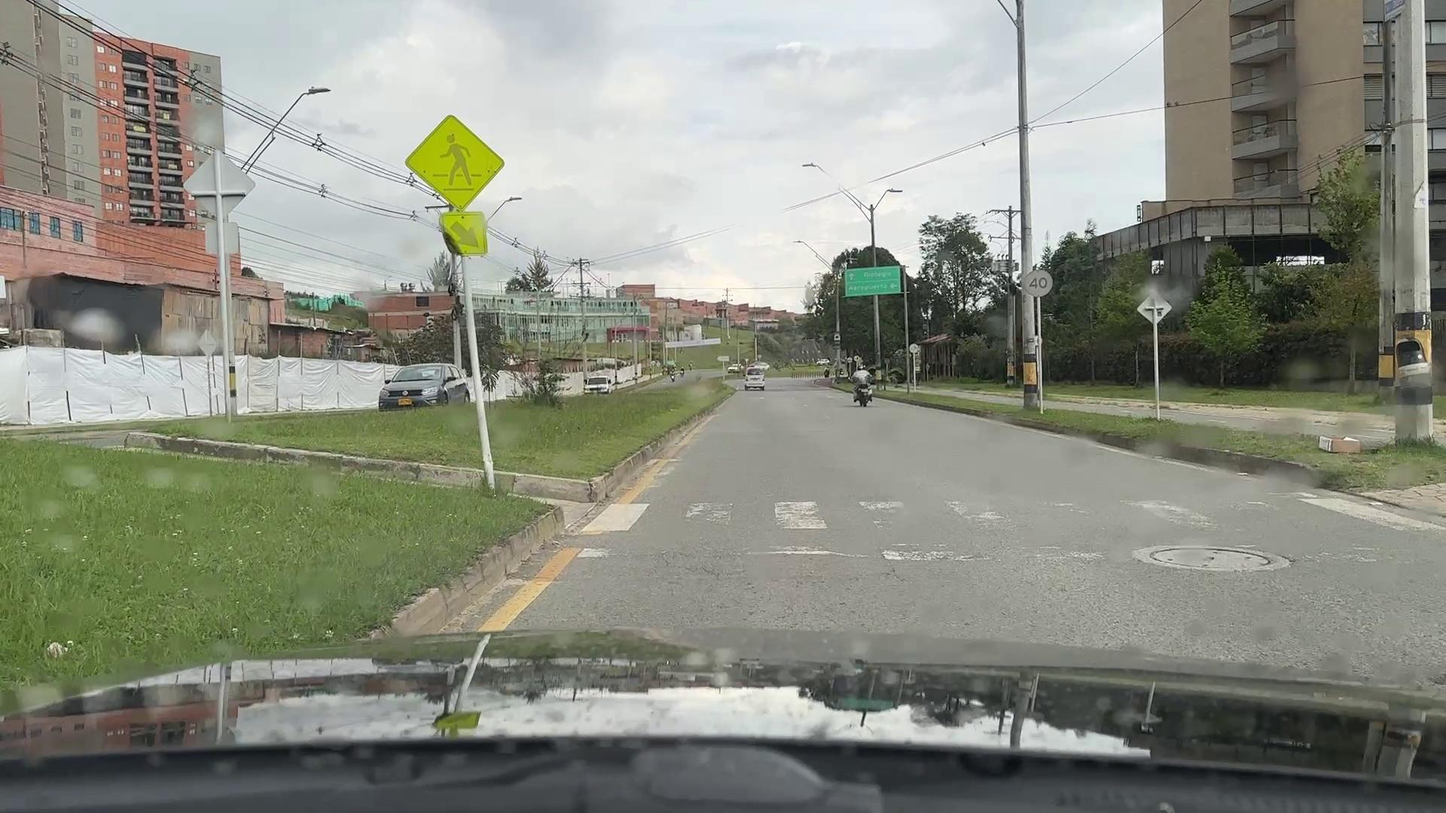registro: (1150, 548, 1271, 569)
